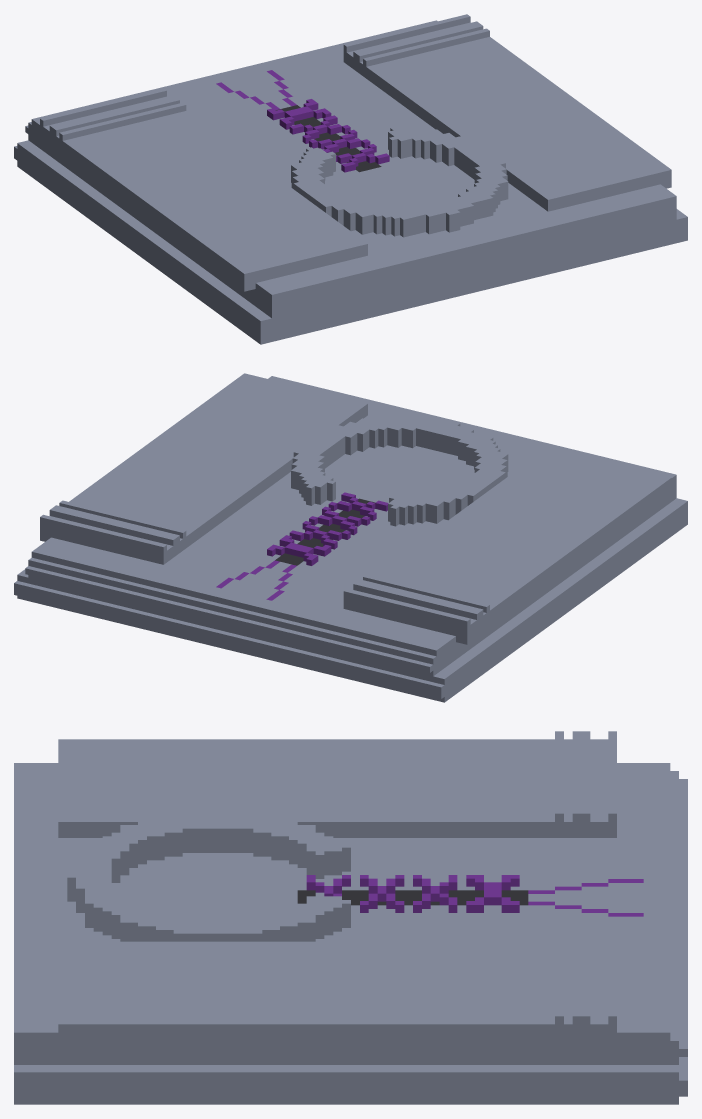
Rendered from parabolan_blouse.glb.
3 renders of one model, top to bottom at view 1: azimuth 30°, elevation 25°; view 2: azimuth 150°, elevation 25°; view 3: azimuth 270°, elevation 25°, orthographic. The views are drawn at different scales.
Visible parts, largest first — view 1: parabolan_blouse:compound; view 2: parabolan_blouse:compound; view 3: parabolan_blouse:compound.
Part boxes in pixels (x1,y1,x2,y2): parabolan_blouse:compound: [14, 14, 687, 344]; parabolan_blouse:compound: [14, 373, 687, 702]; parabolan_blouse:compound: [14, 731, 687, 1104].
Bounding box in the file's own units: 0.304 × 0.044 × 0.304.
